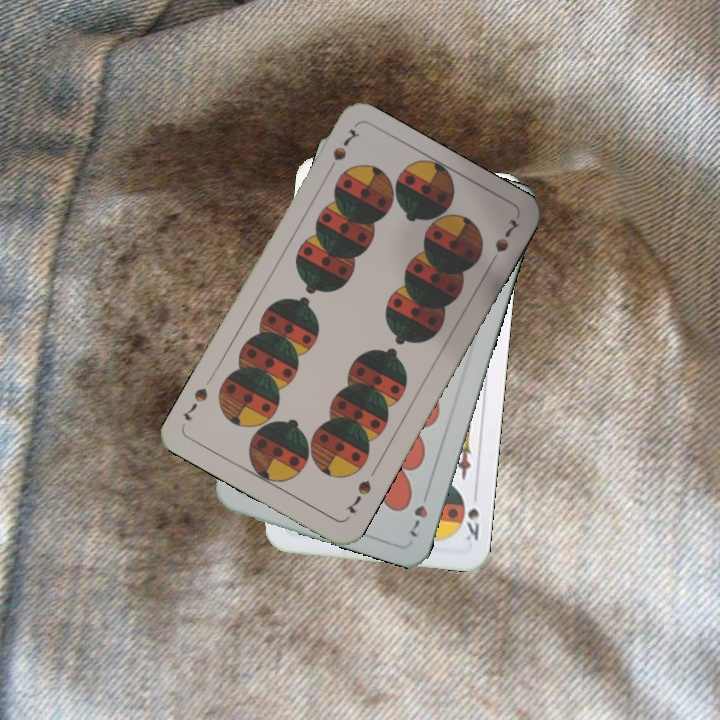H7: (406, 485, 433, 540)
S7: (323, 125, 363, 178), (343, 476, 374, 517)
SK: (461, 487, 482, 543)
